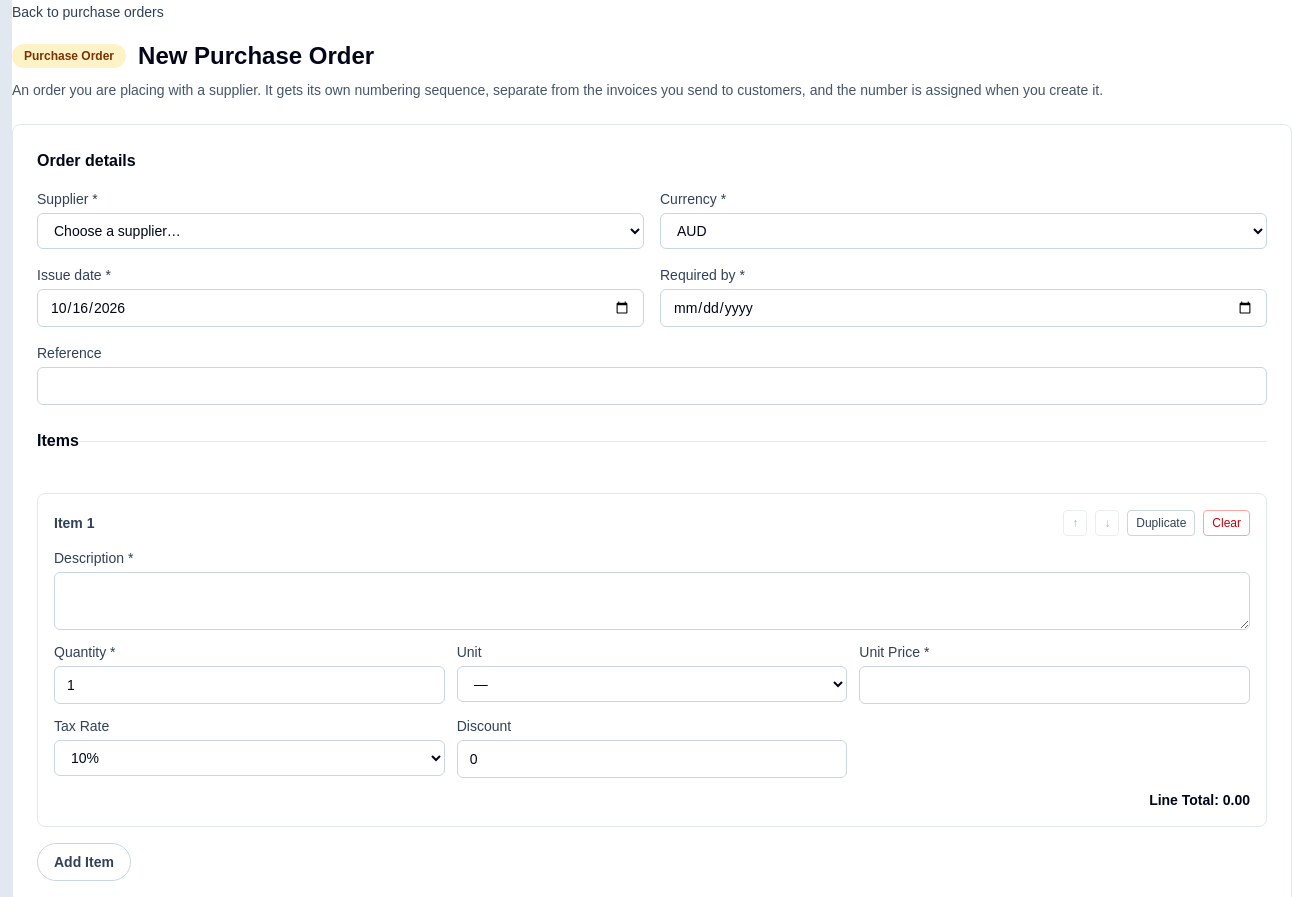
Test case: CreatePurchaseOrderForm › does not submit a line with no description
Expected: the heading "New Purchase Order" is shown, x1=138 y1=40 x2=374 y2=72
Select "Bolt Supply Co" in the dropdown labelled "Supplier *" at (340, 231), box x1=37 y1=213 x2=644 y2=249
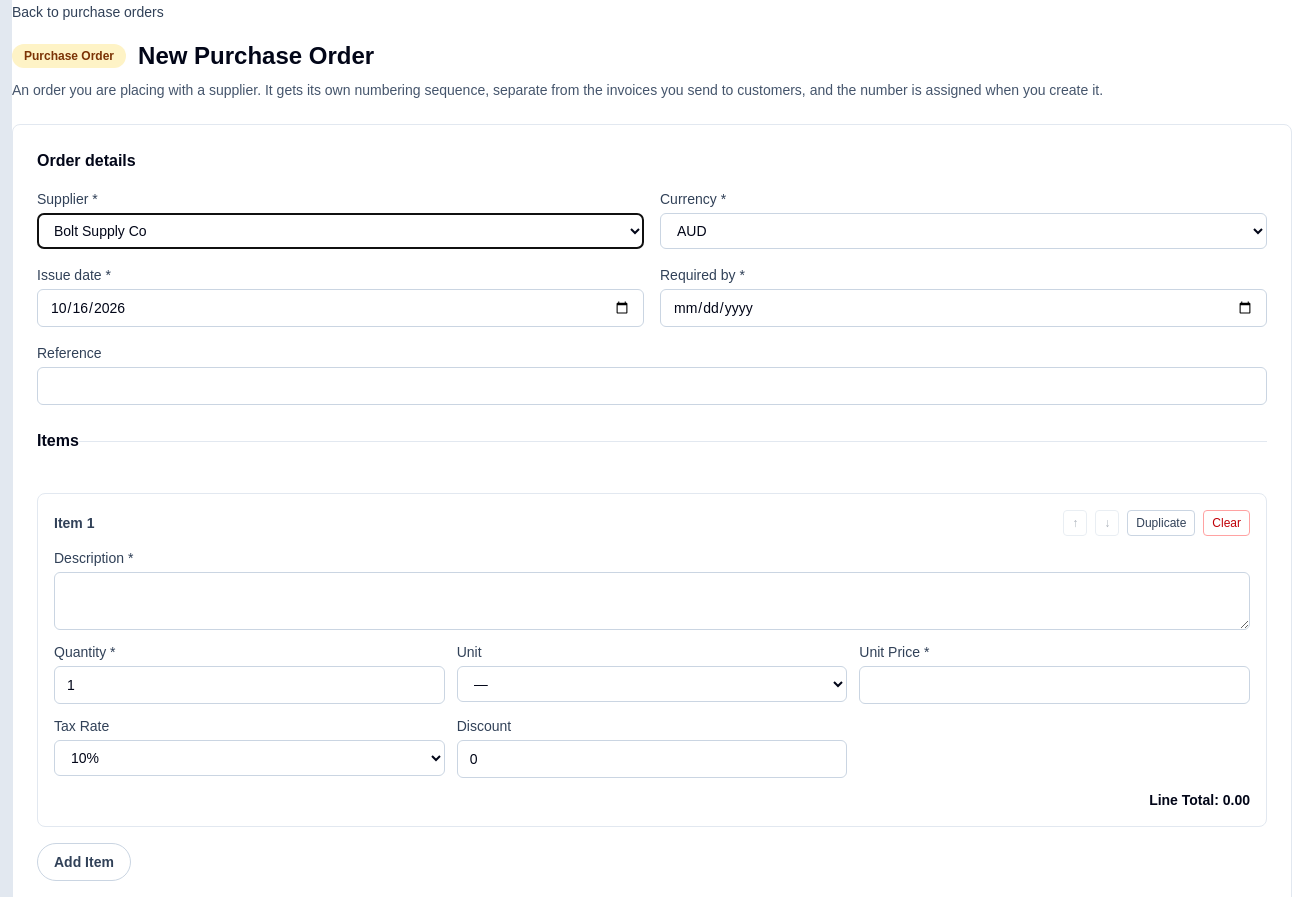
Type "2030-08-15" into the date field labelled "Required by *".
click(964, 308); type("2030-08-15")  # box x1=660 y1=289 x2=1267 y2=327
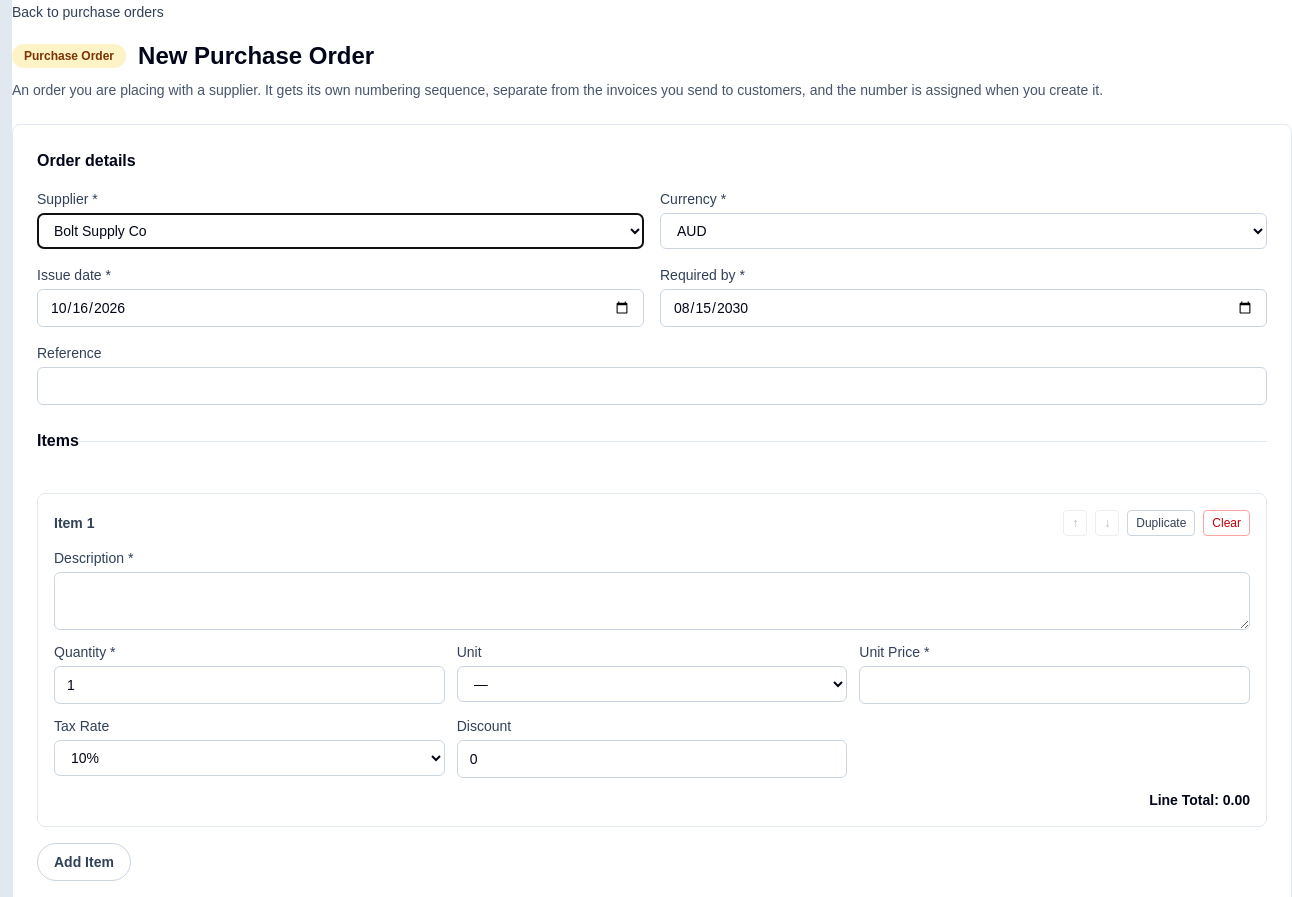
Type "100" into the number field labelled "Unit Price *".
click(1055, 685); type("100")  # box x1=859 y1=666 x2=1250 y2=704
(page scrolled)
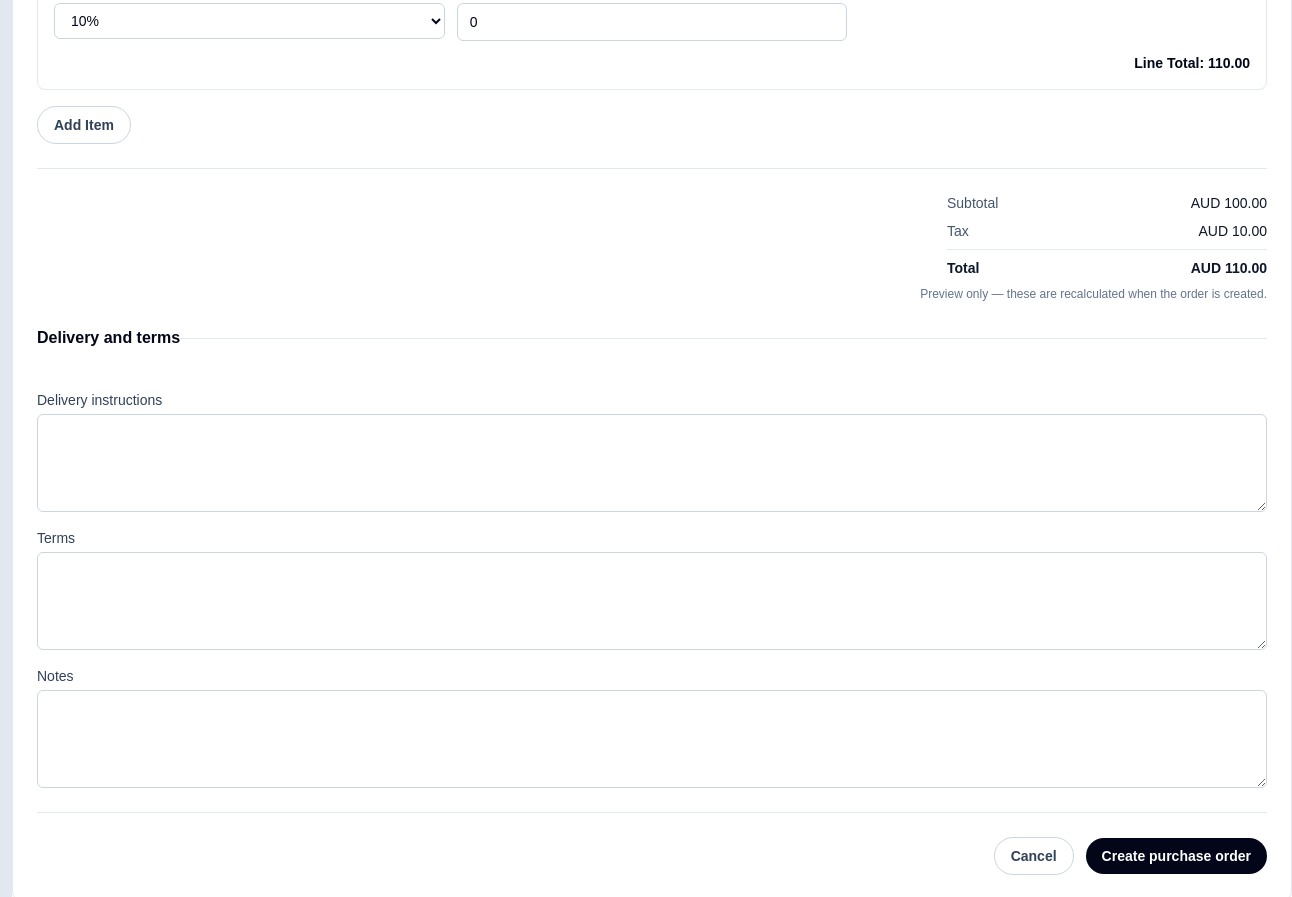
Click the button "Create purchase order".
click(1176, 856)  # box x1=1086 y1=838 x2=1267 y2=874
(page scrolled)
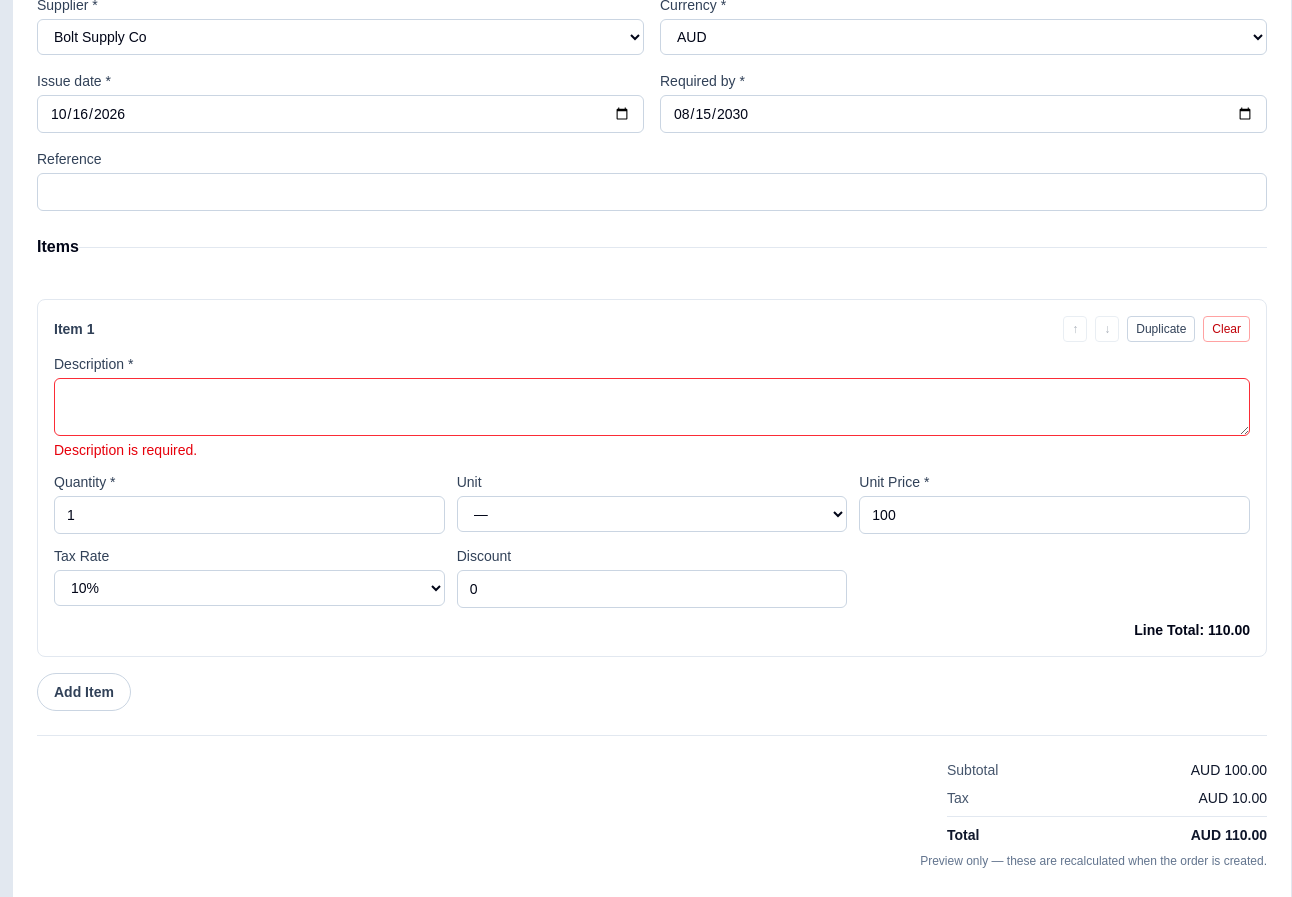
Now the text "Description is required." is shown, box x1=54 y1=442 x2=197 y2=458
